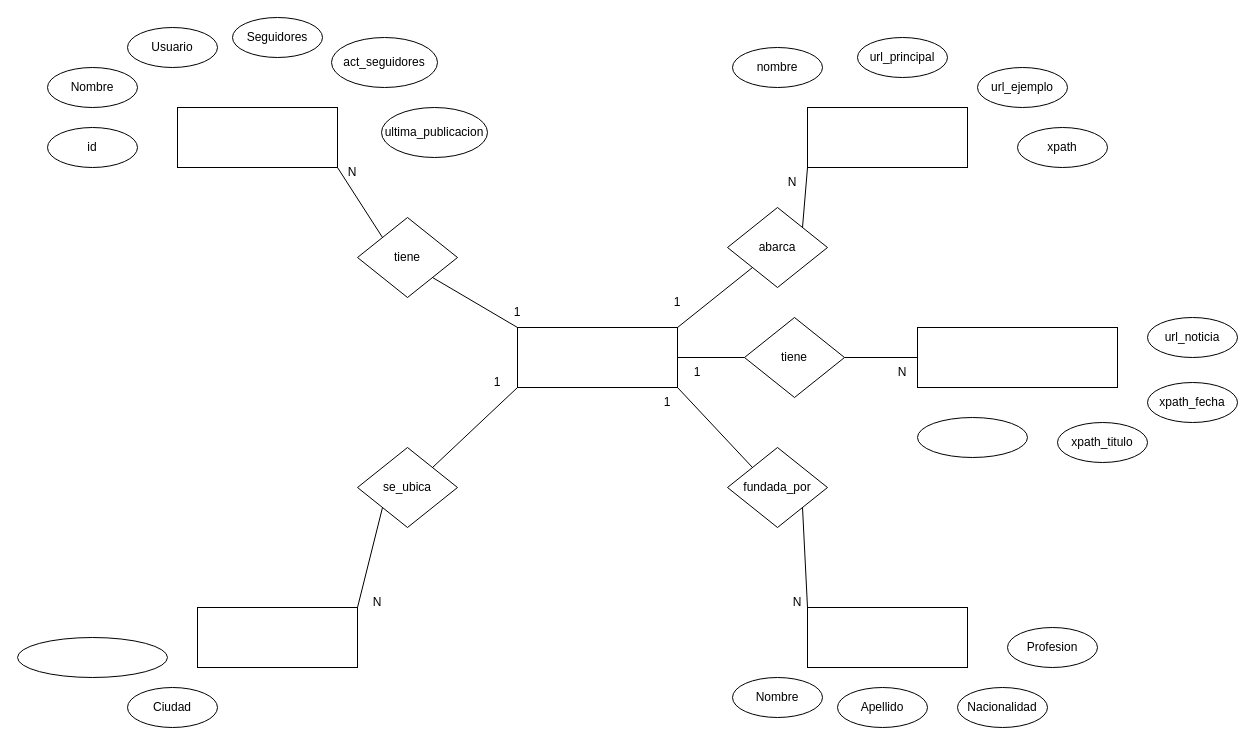
Image size: 1255x745. Some labels were removed from this diagram. Here are the shapes that lost their labels. From the top down, the centre of each, then its label:
At point (257, 137): "Red social".
At point (887, 137): "Categoría".
At point (597, 357): "Medio de prensa".
At point (1017, 357): "Ejemplo noticia xpath".
At point (972, 437): "xpath_contenido".
At point (92, 657): "Comunidad_autonoma".
At point (277, 637): "Ubicación".
At point (887, 637): "Fundador".
